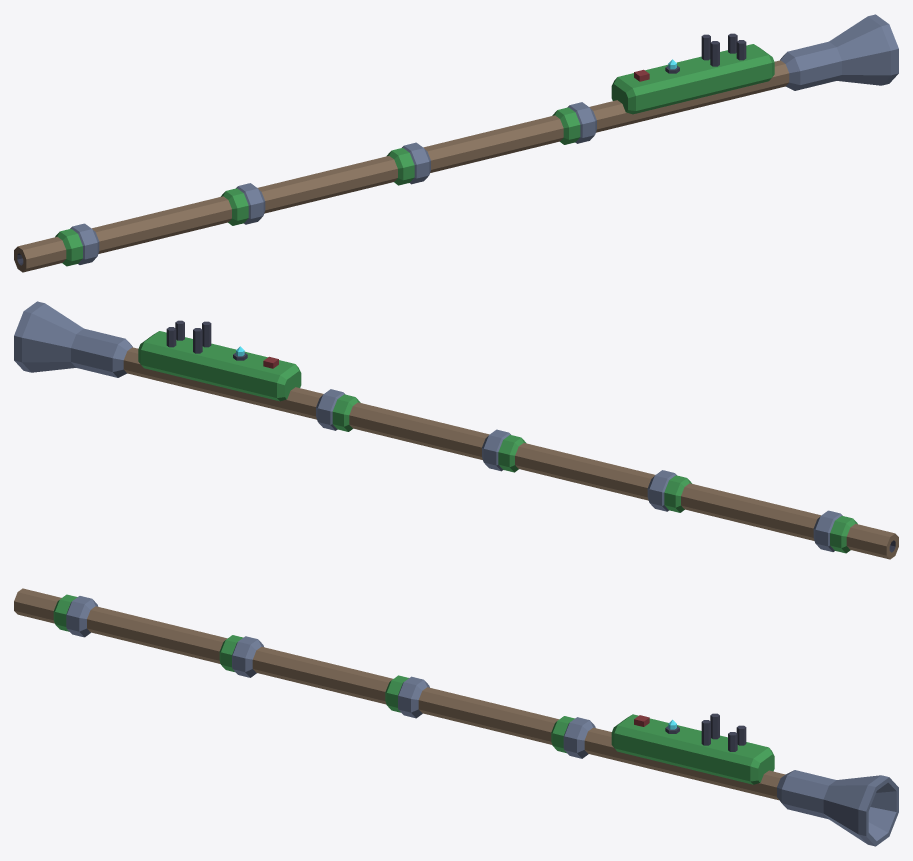
The model's file is blowgun-9bcd91.glb.
The picture shows the model from 3 angles, top to bottom: view 1: azimuth 30°, elevation 25°; view 2: azimuth 150°, elevation 25°; view 3: azimuth 330°, elevation 25°; orthographic projection.
Visible parts, largest first — view 1: blowgun-matte, blowgun-metal; view 2: blowgun-matte, blowgun-metal; view 3: blowgun-matte, blowgun-metal.
Boxes of the visible parts, x1,y1,x2,y2 form: blowgun-matte: [14, 44, 789, 272]; blowgun-metal: [70, 14, 898, 264]; blowgun-matte: [123, 331, 898, 559]; blowgun-metal: [14, 301, 842, 551]; blowgun-matte: [14, 588, 785, 800]; blowgun-metal: [66, 596, 898, 846].
Bounding box in the file's own units: 1.3 × 0.117 × 0.0857.
